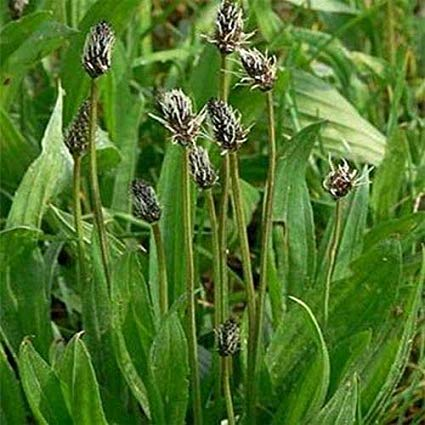buckhorn plantain: (29, 4, 352, 401)
